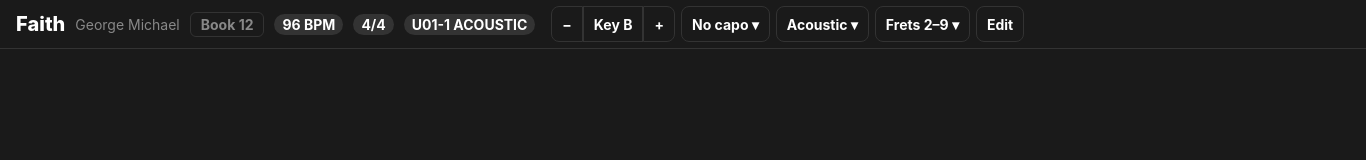
Scenario: the setup row › turns Edit into Done, with Reset and the save status beside it
The width and height of the screenshot is (1366, 160).
Click the button "Edit" at (1000, 24), box [976, 6, 1024, 42]
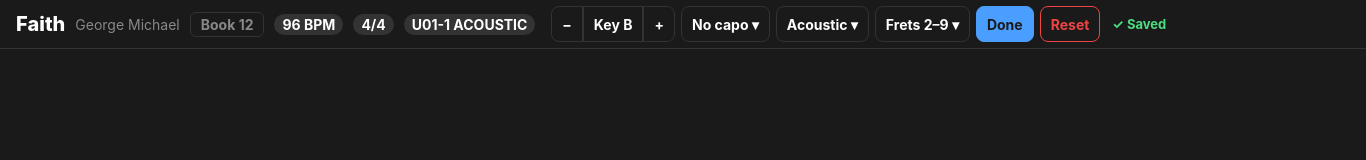
Now the button "Done" is shown, box [976, 6, 1034, 42]
Now the button "Reset" is shown, box [1040, 6, 1100, 42]
Now the message shows "Saved", box [1127, 16, 1166, 32]
